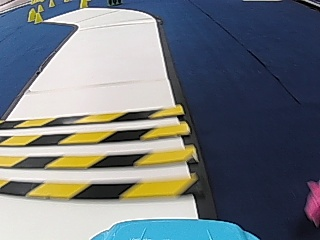bump: (12, 114, 167, 193)
